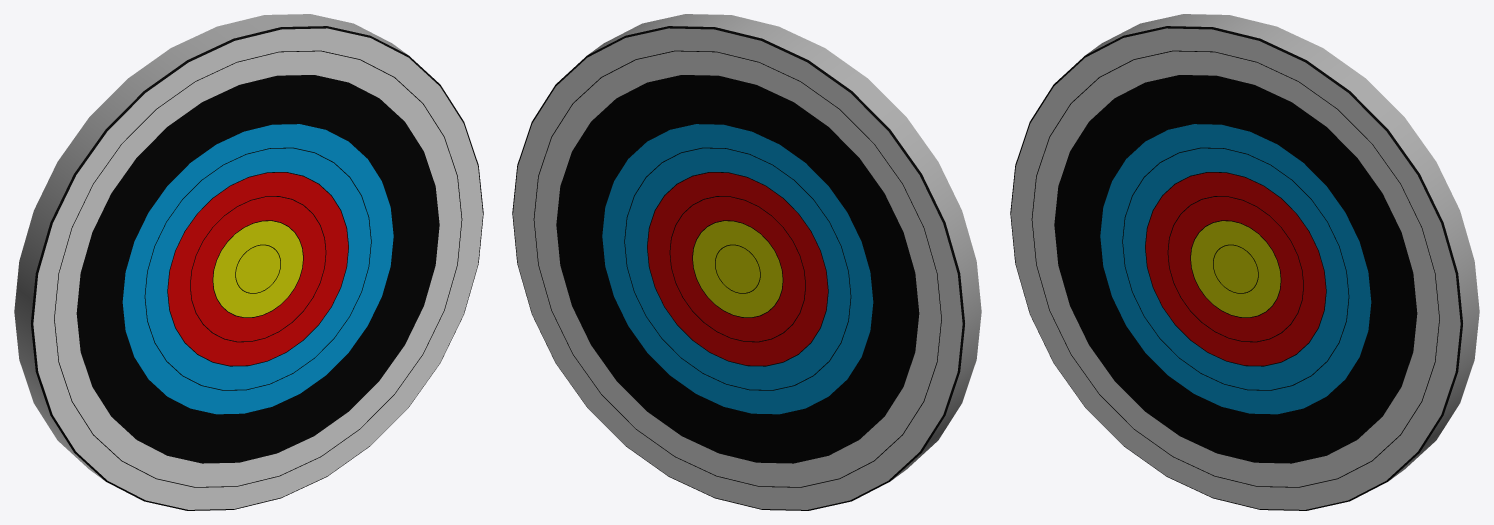
The model's file is Hard_Board.fbx.
3 views of the same model, side by side, from view 1: azimuth 30°, elevation 25°; view 2: azimuth 150°, elevation 25°; view 3: azimuth 330°, elevation 25° (orthographic).
Parts seen in each view (by area): view 1: Outer_Ring2, Outer_Ring1, Black_Ring2, Black_Ring1, Blue_Ring2, Blue_Ring1, Red_Ring2, Red_Ring1, Center_Ring2, Center_RIng1; view 2: Outer_Ring2, Outer_Ring1, Black_Ring2, Black_Ring1, Blue_Ring2, Blue_Ring1, Red_Ring2, Red_Ring1, Center_Ring2, Center_RIng1; view 3: Outer_Ring2, Outer_Ring1, Black_Ring2, Black_Ring1, Blue_Ring2, Blue_Ring1, Red_Ring2, Red_Ring1, Center_Ring2, Center_RIng1.
Boxes of the visible parts, x1,y1,x2,y2 form: Outer_Ring2: (14,14,483,510); Outer_Ring1: (54,51,461,487); Black_Ring2: (77,75,439,463); Black_Ring1: (99,99,416,438); Blue_Ring2: (122,123,393,414); Blue_Ring1: (145,148,371,390); Red_Ring2: (167,172,348,366); Red_Ring1: (190,196,325,341); Center_Ring2: (213,220,303,317); Center_RIng1: (235,245,280,293); Outer_Ring2: (512,14,981,510); Outer_Ring1: (534,51,941,487); Black_Ring2: (556,75,918,463); Black_Ring1: (579,99,896,438); Blue_Ring2: (602,123,873,414); Blue_Ring1: (624,148,850,390); Red_Ring2: (647,172,828,366); Red_Ring1: (670,196,805,341); Center_Ring2: (692,220,782,317); Center_RIng1: (715,245,760,293); Outer_Ring2: (1010,14,1479,510); Outer_Ring1: (1032,51,1439,487); Black_Ring2: (1054,75,1416,463); Black_Ring1: (1077,99,1394,438); Blue_Ring2: (1100,123,1371,414); Blue_Ring1: (1122,148,1348,390); Red_Ring2: (1145,172,1326,366); Red_Ring1: (1168,196,1303,341); Center_Ring2: (1190,220,1280,317); Center_RIng1: (1213,245,1258,293).
Size of the model in its own units: 0.9312 by 0.9261 by 0.0653.
